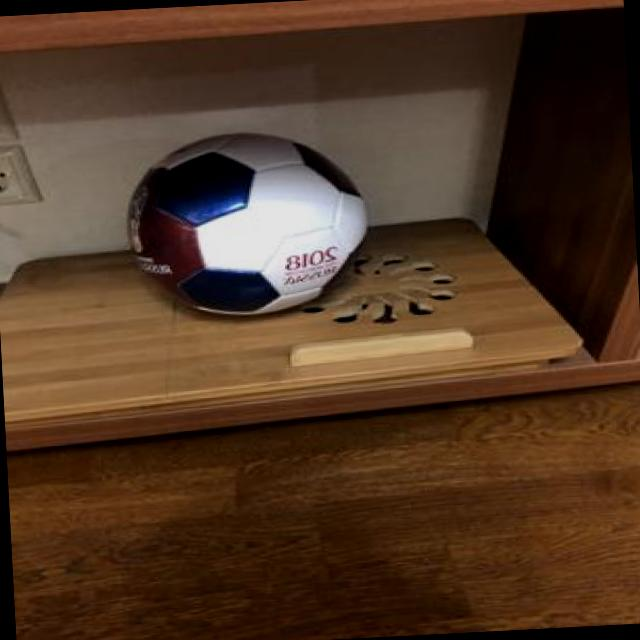Soccer Ball: (120, 120, 381, 322)
